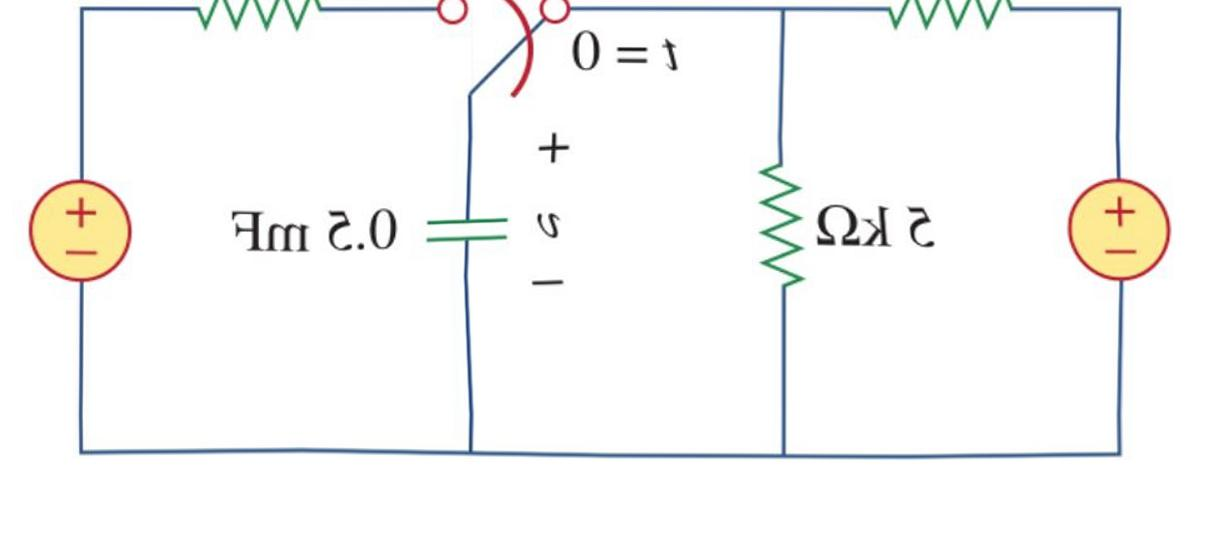Battery: (0, 153, 150, 309), (1042, 151, 1186, 290)
